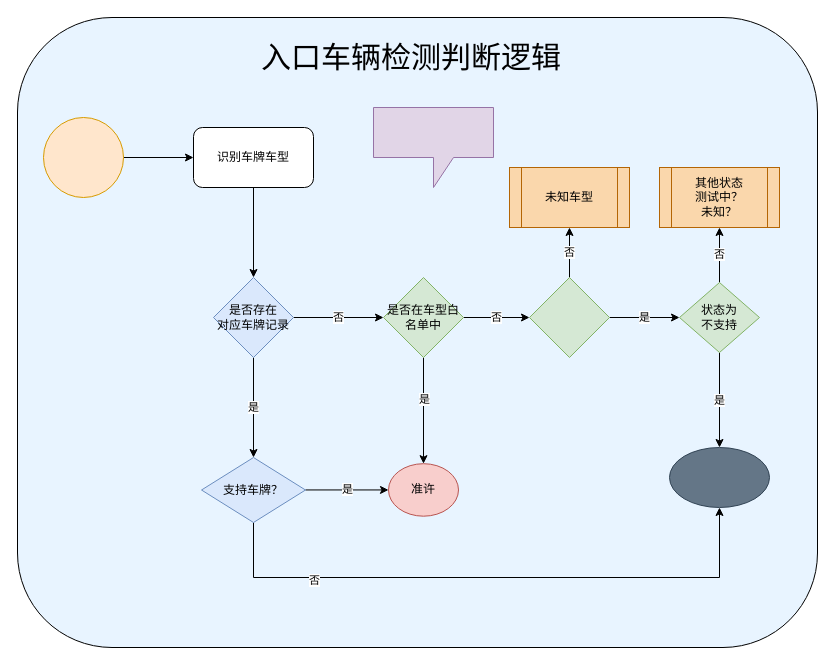
Some shapes in this 835 by 665 pixel diagram are drawn without their labels. The shapes that lost their labels are listed below. From the top down, each one's centre as x and y in pixels, then its label:
the point at 83,157: 车辆驶入
the point at 433,147: 思考: 匹配近似车型？
the point at 569,317: 是否在 车型库中
the point at 719,477: 拒绝
